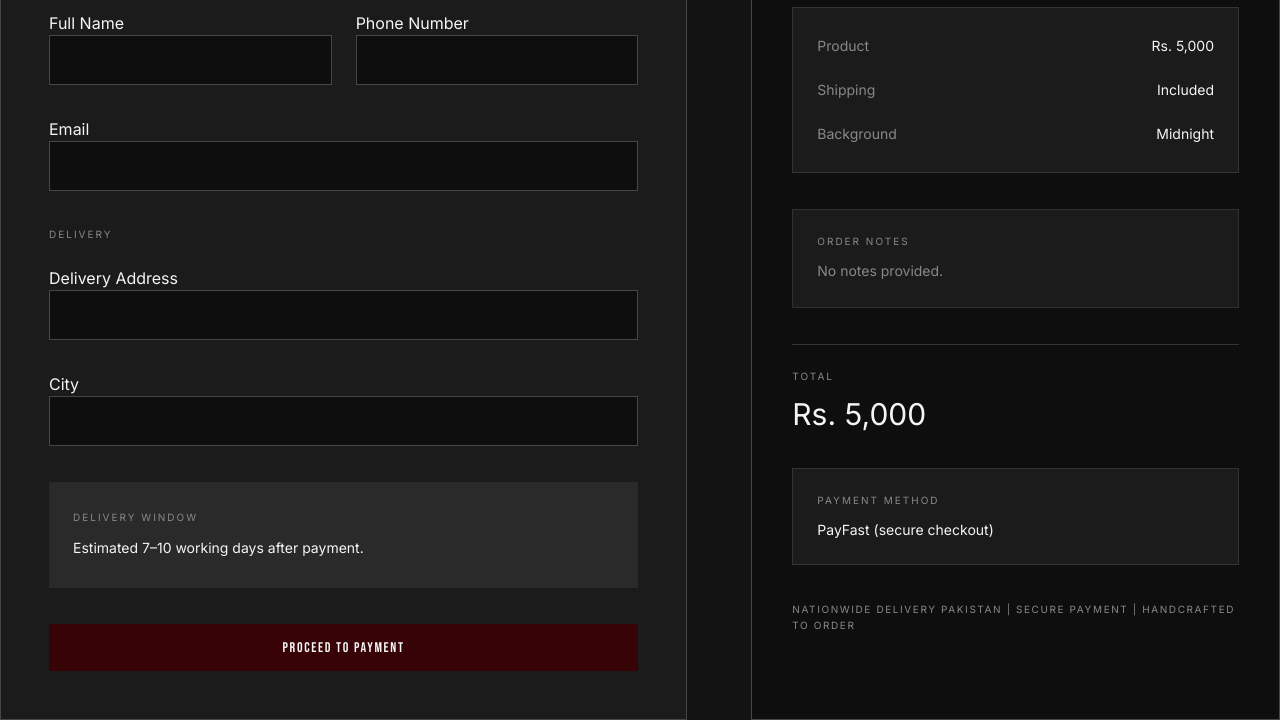
CheckoutForm › shows validation errors for empty submit
(page scrolled)
Click the button "Proceed to Payment".
click(344, 647)  # box [49, 624, 638, 671]
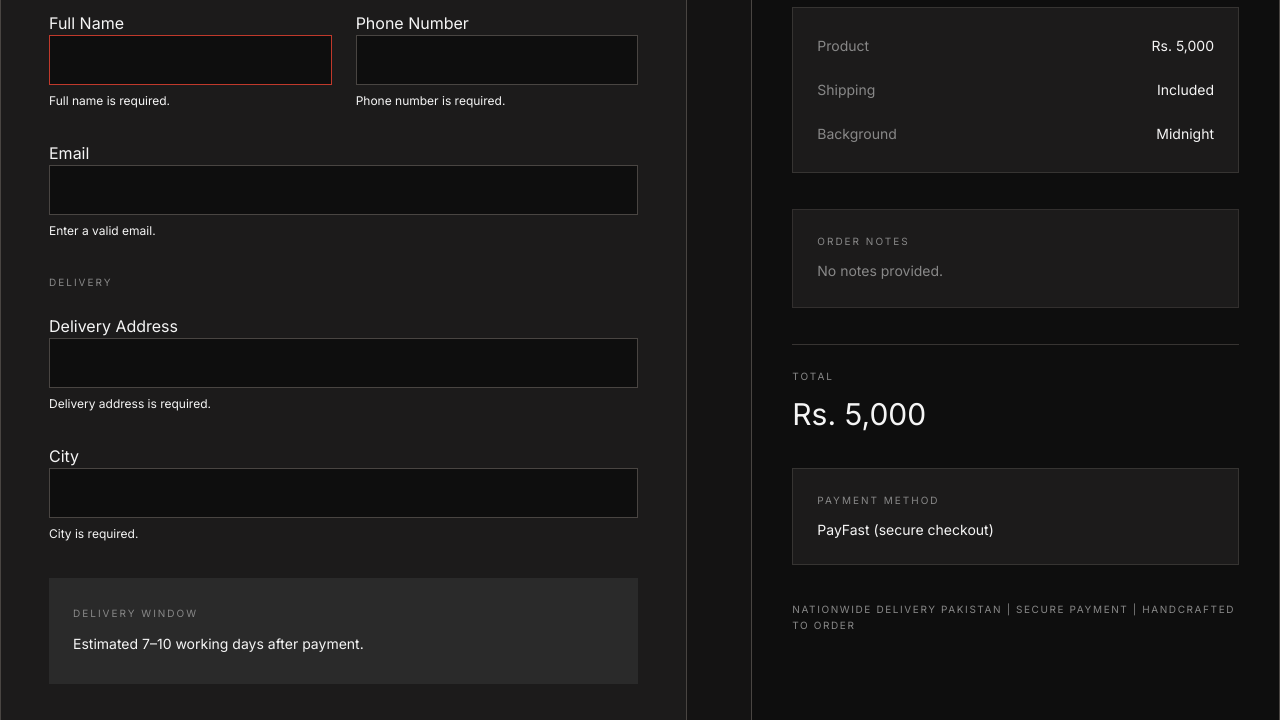
Expected: the text "Full name is required." is shown, [49, 93, 170, 108]
Expected: the text "Enter a valid email." is shown, [49, 223, 156, 238]
Expected: the text "Phone number is required." is shown, [356, 93, 505, 108]
